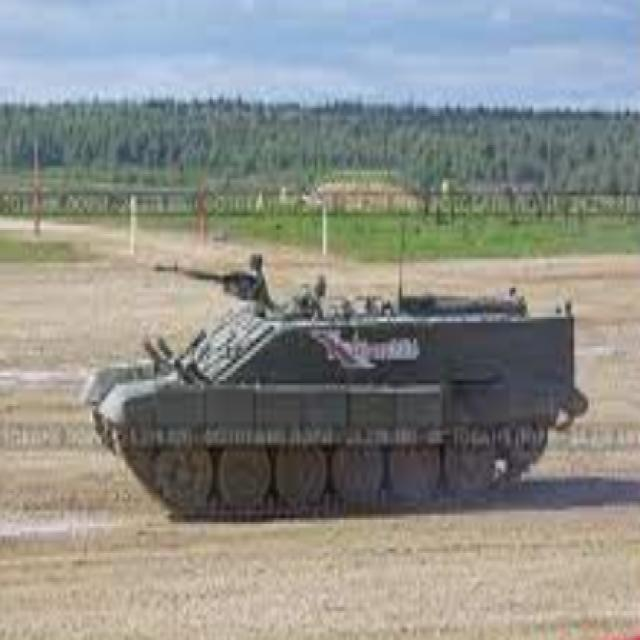MIL_APC: (72, 266, 592, 530)
